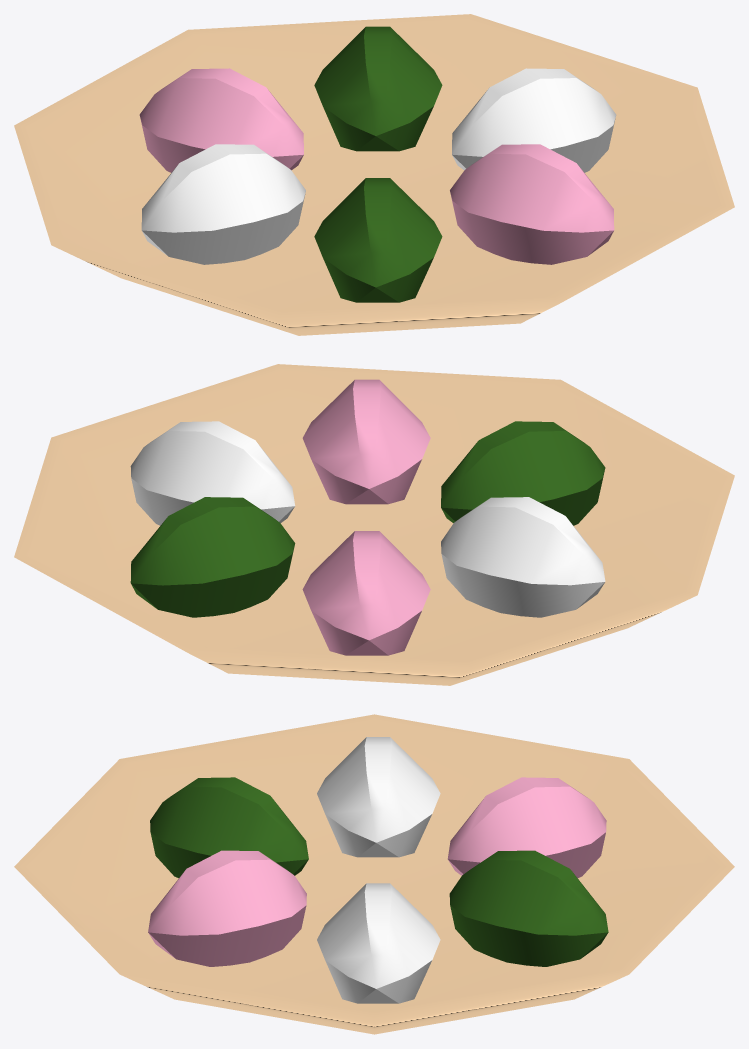
3 views of the same model, one above another, from view 1: azimuth 30°, elevation 25°; view 2: azimuth 150°, elevation 25°; view 3: azimuth 270°, elevation 25° (orthographic). The views are drawn at different scales.
Visible parts, largest first — view 1: Cylinder, Sphere, Sphere.005, Sphere.003, Sphere.002, Sphere.001, Sphere.004; view 2: Cylinder, Sphere.003, Sphere, Sphere.005, Sphere.004, Sphere.002, Sphere.001; view 3: Cylinder, Sphere.003, Sphere.005, Sphere.001, Sphere, Sphere.004, Sphere.002.
Part boxes in pixels (x1,y1,x2,y2): Cylinder: (14, 14, 734, 335); Sphere: (141, 144, 305, 264); Sphere.005: (450, 144, 614, 264); Sphere.003: (314, 26, 442, 151); Sphere.002: (314, 178, 442, 302); Sphere.001: (452, 68, 616, 172); Sphere.004: (139, 68, 303, 172); Cylinder: (14, 364, 734, 685); Sphere.003: (130, 497, 295, 617); Sphere: (441, 497, 605, 617); Sphere.005: (302, 379, 430, 504); Sphere.004: (302, 531, 430, 655); Sphere.002: (441, 421, 605, 525); Sphere.001: (130, 421, 295, 525); Cylinder: (14, 714, 734, 1034); Sphere.003: (449, 850, 608, 966); Sphere.005: (148, 850, 306, 966); Sphere.001: (317, 883, 440, 1003); Sphere: (317, 737, 440, 857); Sphere.004: (447, 777, 606, 877); Sphere.002: (150, 777, 308, 878).
Bounding box in the file's own units: 86.89 × 13.14 × 86.89.
